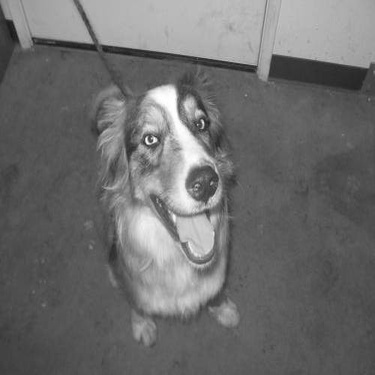dog: (64, 59, 253, 353)
